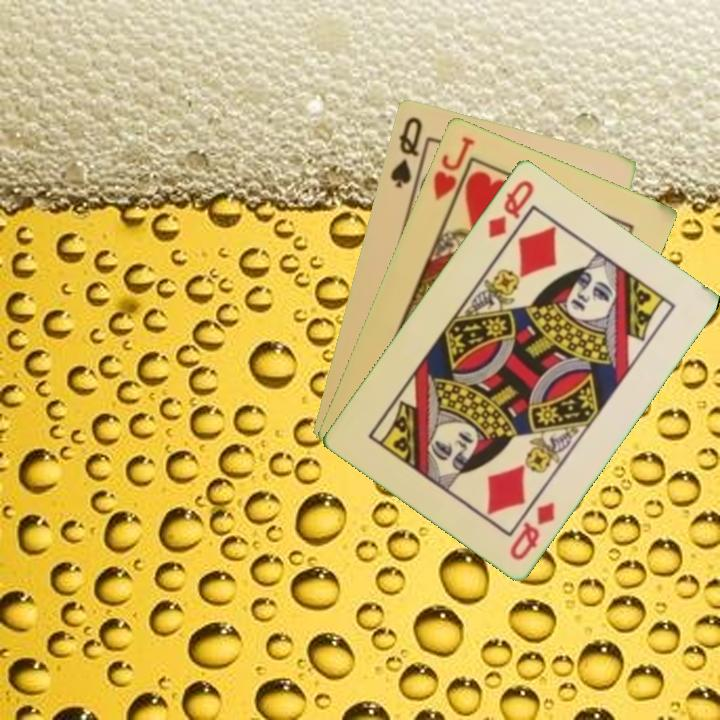Jh: (429, 132, 478, 203)
Qd: (484, 175, 537, 241), (506, 497, 558, 563)
Qs: (386, 112, 425, 191)
